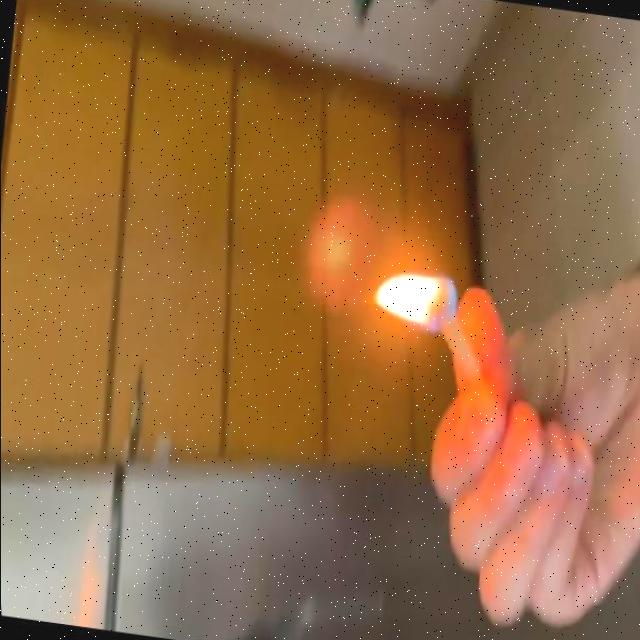fire: (361, 262, 457, 334)
